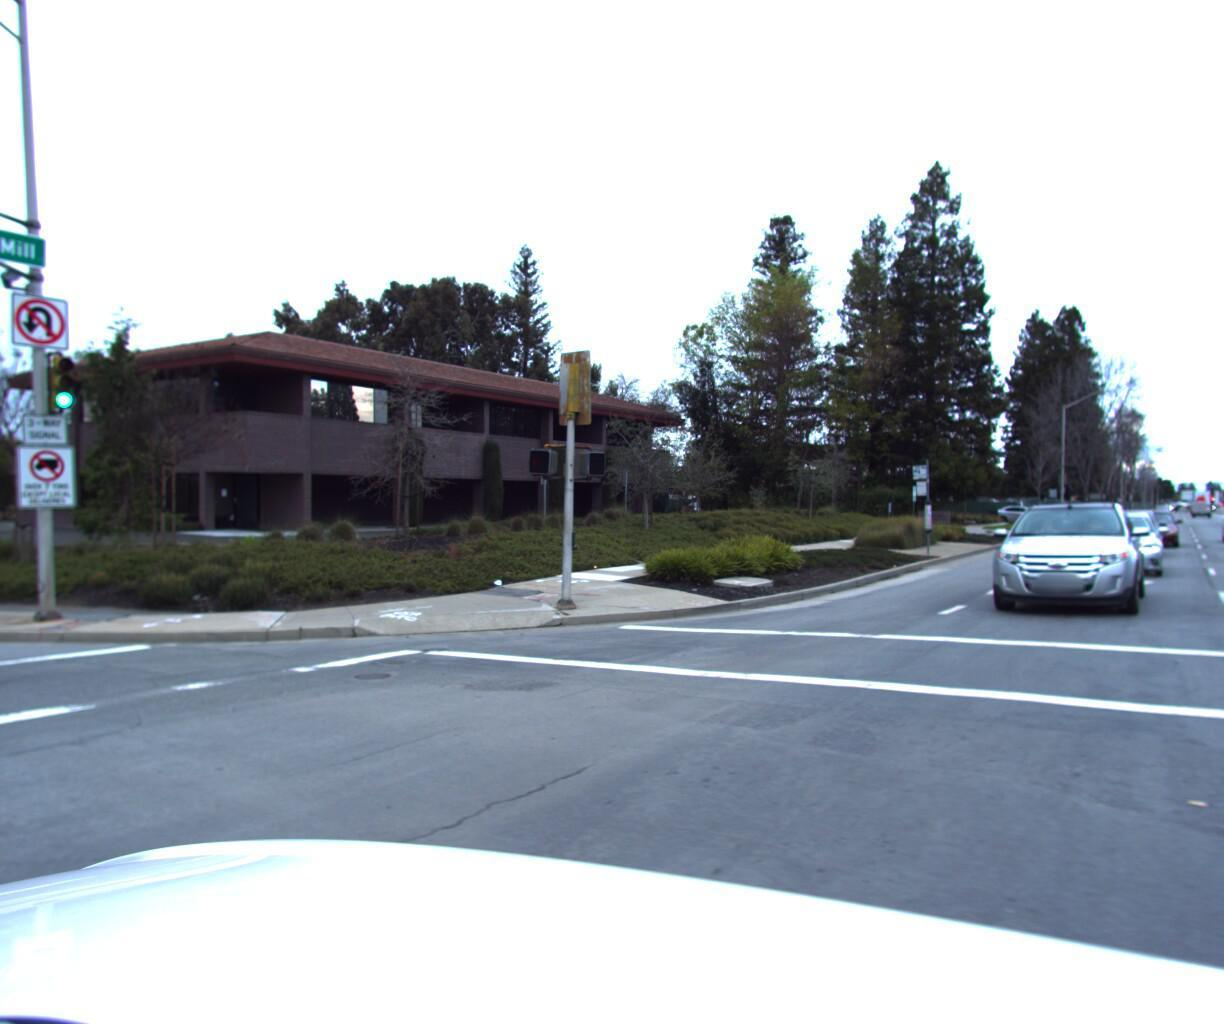car: (979, 491, 1148, 618), (1065, 505, 1164, 581), (1089, 497, 1165, 555), (1117, 500, 1183, 548), (990, 504, 1055, 526), (1219, 500, 1224, 544)
